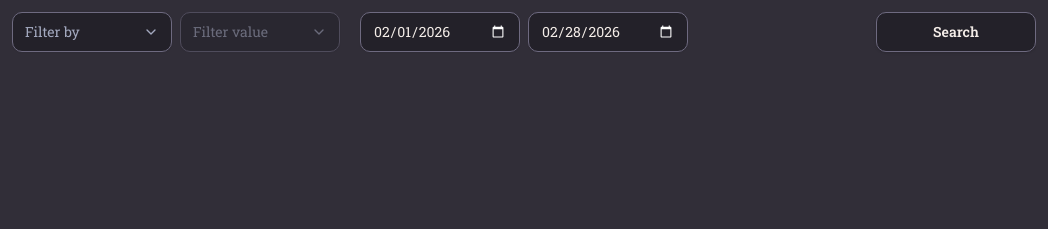
Test case: FilterForm selects › keeps Filter value disabled until a Filter by is chosen
The width and height of the screenshot is (1048, 229).
Expected: the dropdown labelled "Filter value" is disabled, [180,12,340,52]
Click the dropdown labelled "Filter by" at (92, 32), box [12,12,172,52]
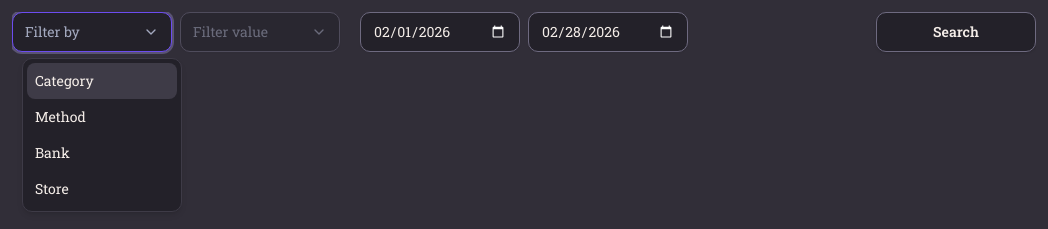
Click the option "Category" at (102, 81), box [27,63,177,99]
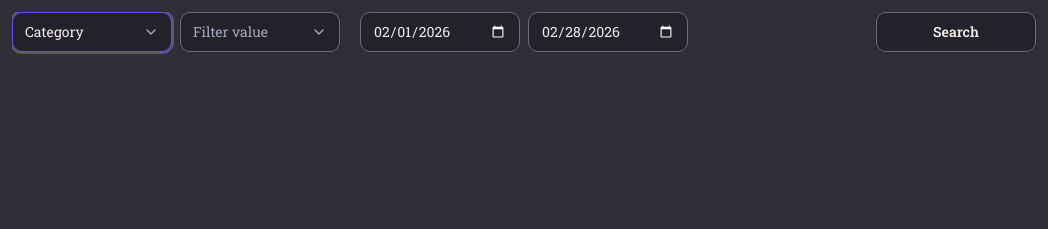
Result: the dropdown labelled "Filter value" is enabled at [180,12,340,52]
